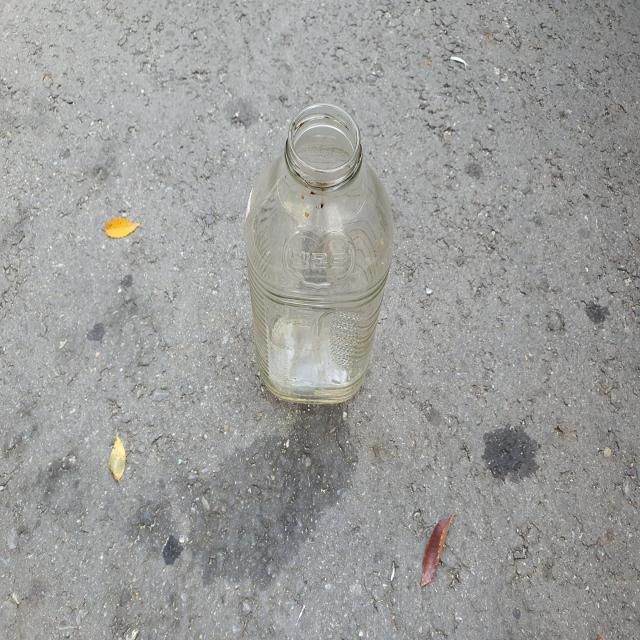glass: (245, 103, 393, 403)
